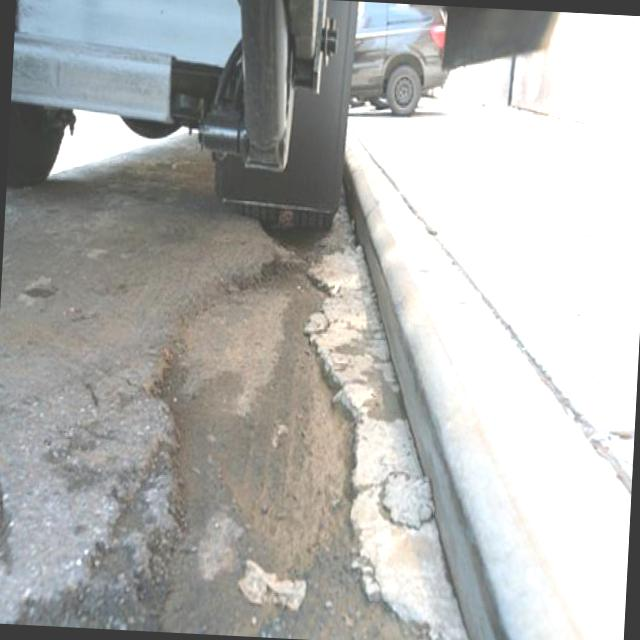pothole: (140, 258, 400, 640)
